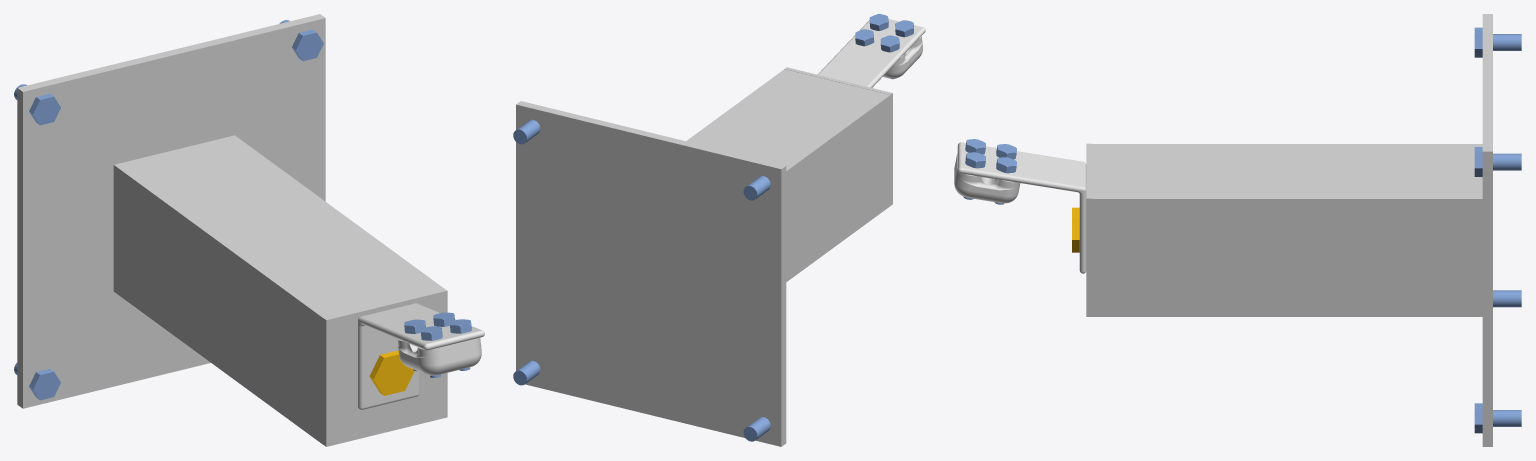
File: P_Inox_Rigide.glb
3 views of the same model, side by side, from view 1: azimuth 30°, elevation 25°; view 2: azimuth 150°, elevation 25°; view 3: azimuth 270°, elevation 25° (orthographic). The views are drawn at different scales.
Visible parts, largest first — view 1: tube, couvert_tube, INOX_LightPro, boulon (×4), 20220216_MAC_I; view 2: tube, INOX_LightPro, boulon (×4), couvert_tube, 20220216_MAC_I; view 3: tube, INOX_LightPro, boulon (×3), 20220216_MAC_I, couvert_tube.
Part boxes in pixels (x1,y1,x2,y2): tube: [17, 14, 443, 444]; couvert_tube: [323, 288, 447, 446]; INOX_LightPro: [358, 303, 484, 409]; boulon (×4): [14, 20, 414, 400]; 20220216_MAC_I: [397, 337, 481, 375]; tube: [516, 69, 890, 446]; INOX_LightPro: [818, 19, 925, 87]; boulon (×4): [513, 119, 770, 441]; couvert_tube: [784, 67, 892, 205]; 20220216_MAC_I: [883, 36, 922, 78]; tube: [1091, 14, 1492, 446]; INOX_LightPro: [957, 142, 1086, 273]; boulon (×3): [1474, 27, 1521, 433]; 20220216_MAC_I: [954, 152, 1020, 203]; couvert_tube: [1086, 143, 1091, 316].
Size of the model in its own units: 0.25 by 0.25 by 0.4352.
